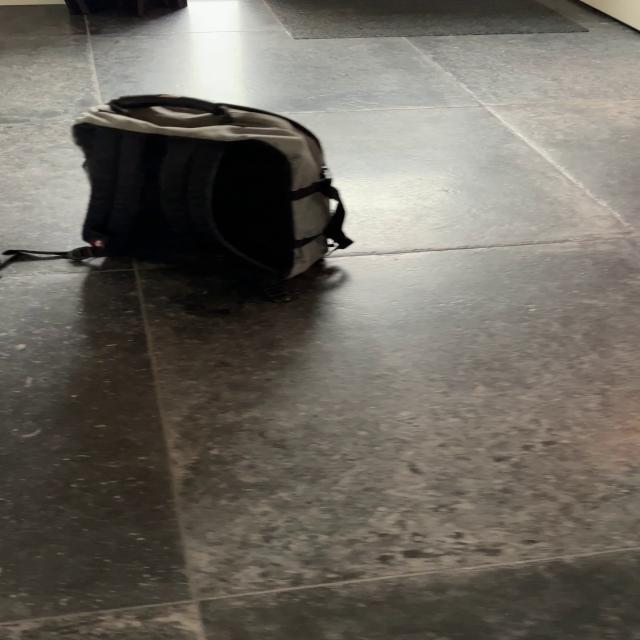backpack: (63, 85, 361, 308)
